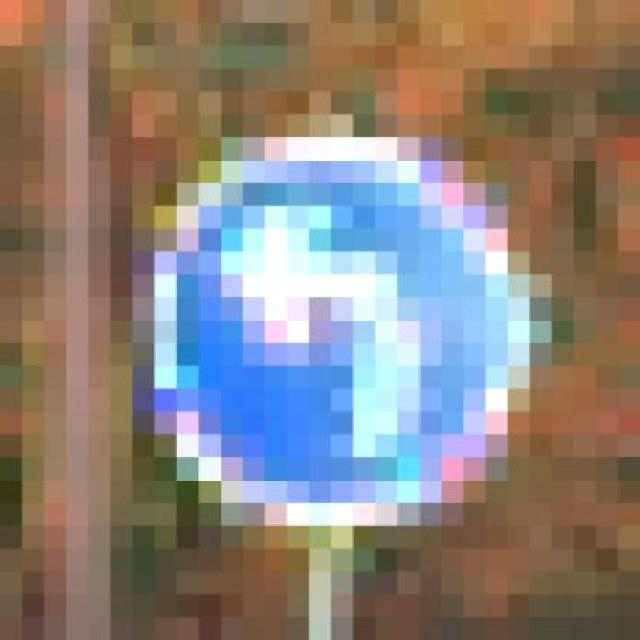Turn left ahead: (111, 114, 574, 549)
